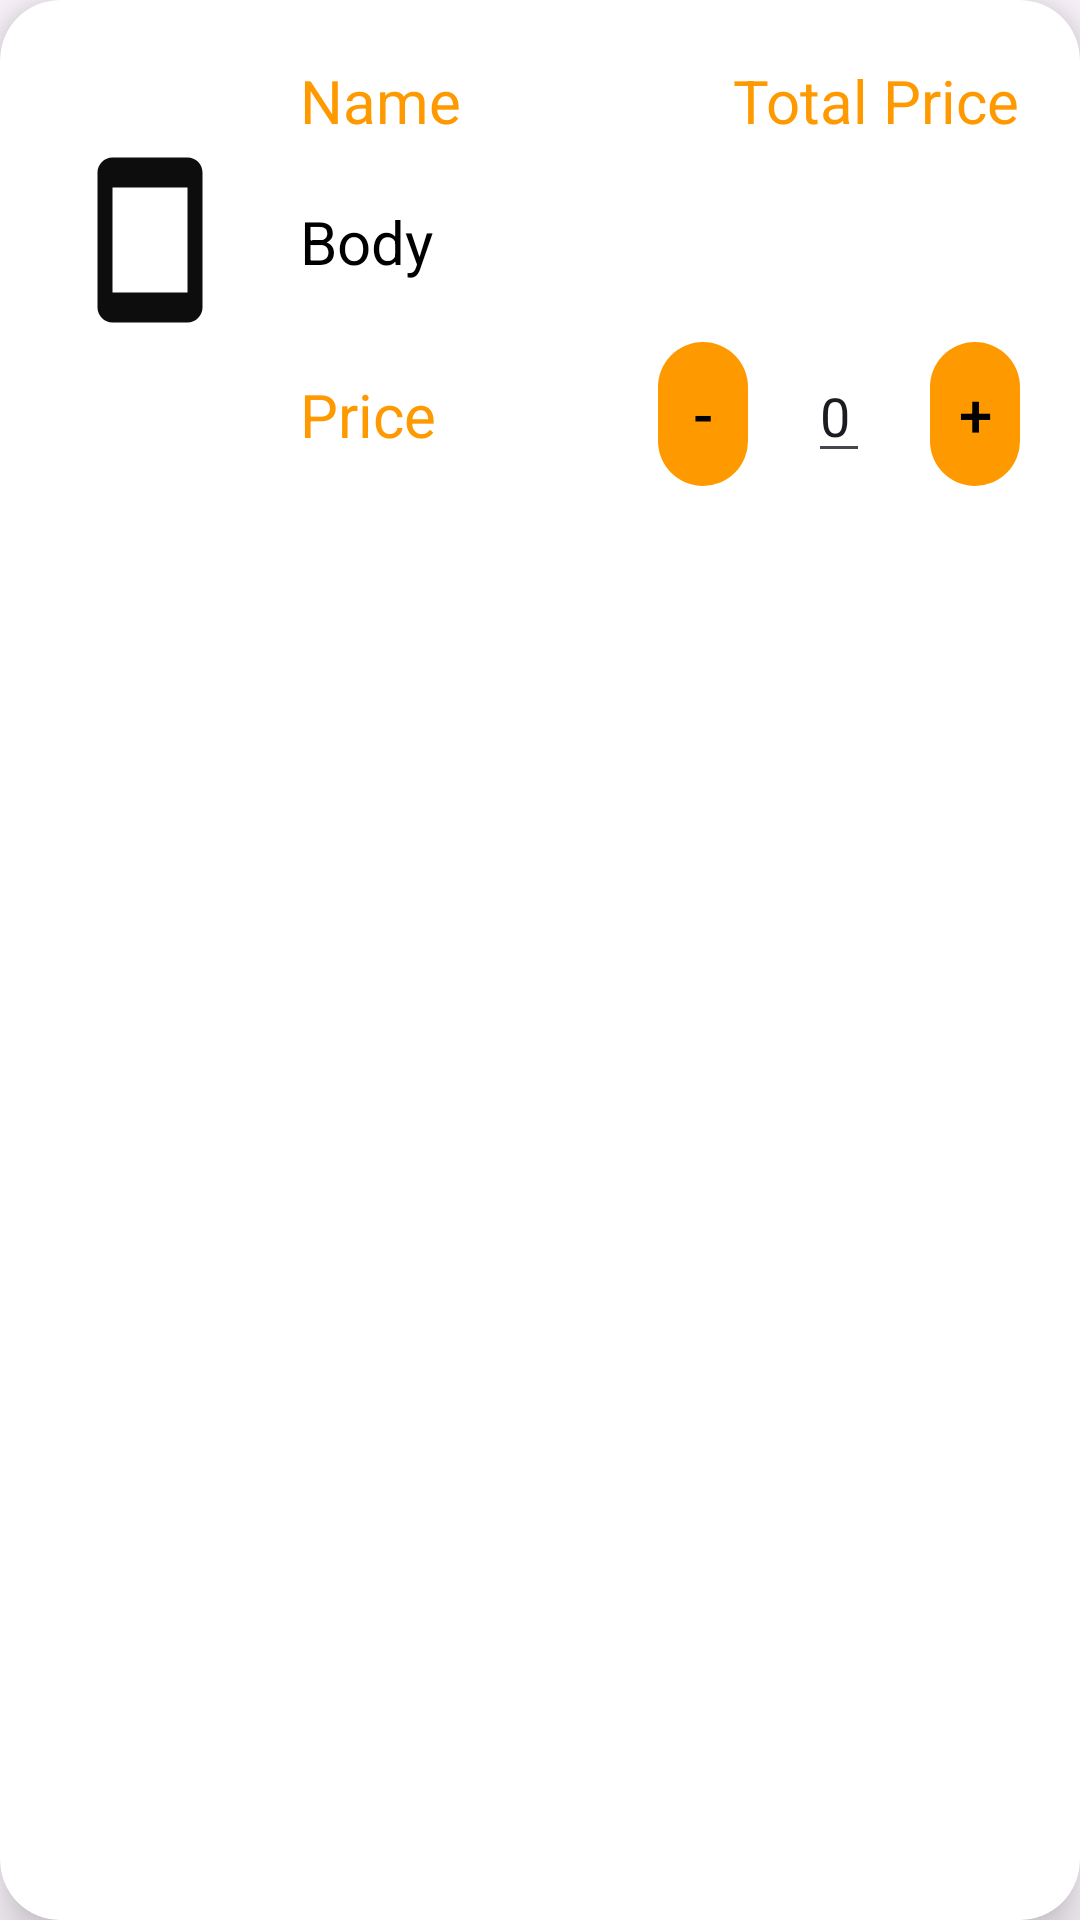

Named icons in this screenshot (1080x1920) and their centers, point (x, y):
smartphone: point (150, 240)
